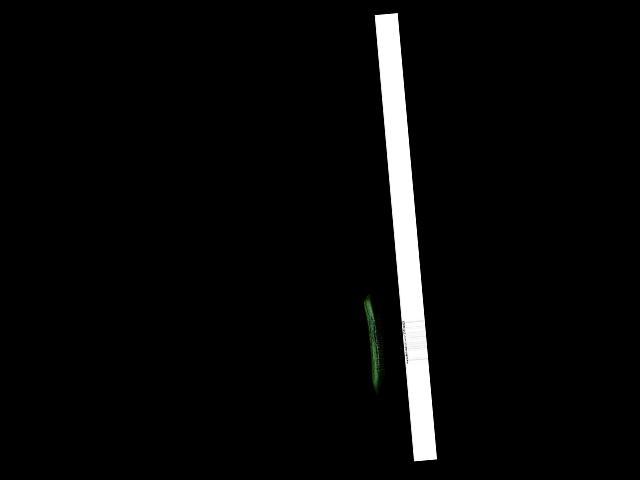cucumber: (363, 292, 388, 396)
